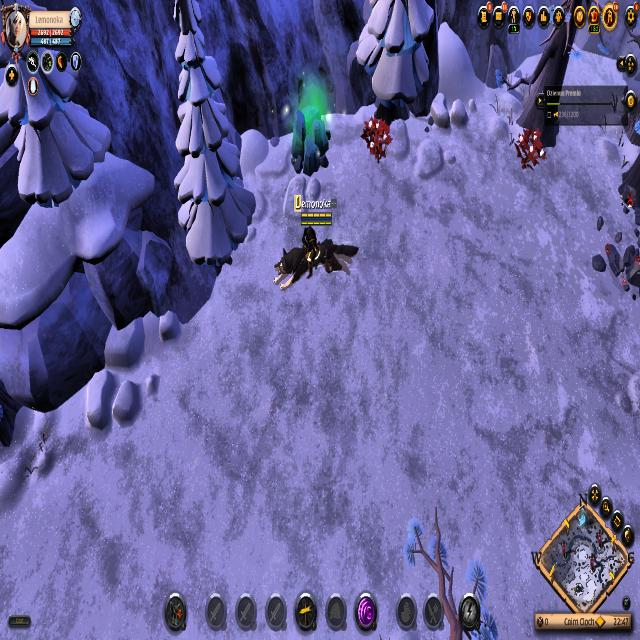fiber tier 5: (515, 124, 547, 173), (362, 115, 392, 162)
rock tier 4: (290, 105, 333, 178)
